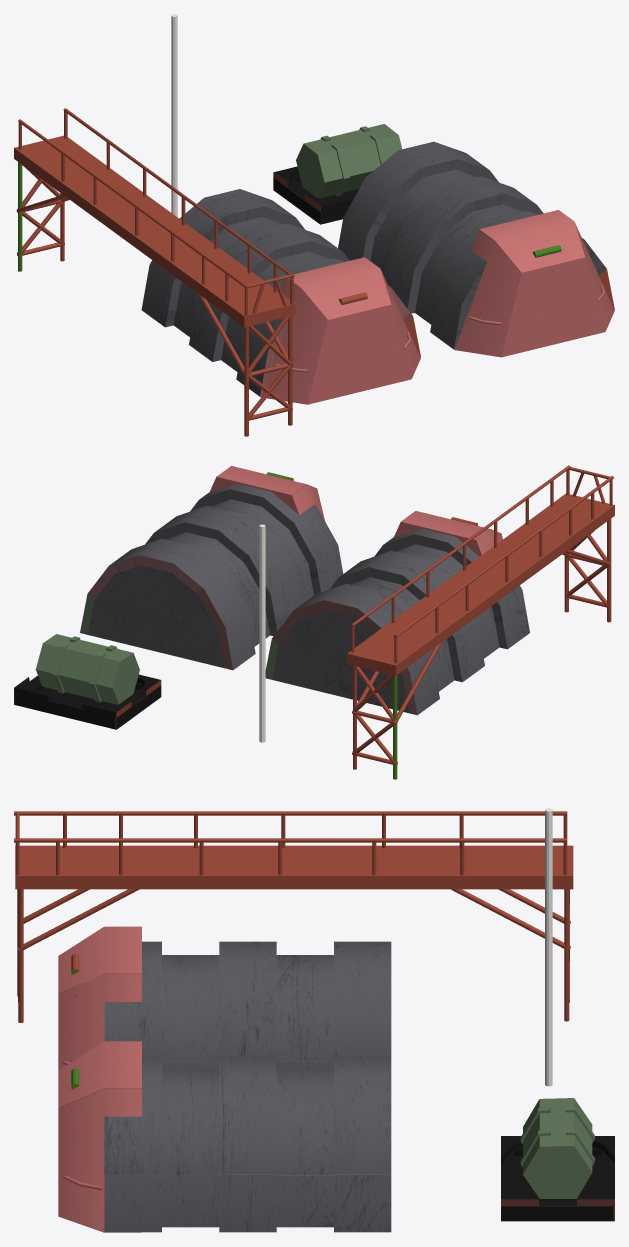
File: Barracks.fbx
3 views of the same model, one above another, from view 1: azimuth 30°, elevation 25°; view 2: azimuth 150°, elevation 25°; view 3: azimuth 270°, elevation 25° (orthographic). The views are drawn at different scales.
Visible parts, largest first — view 1: pCylinder45, polySurface12, polySurface11, polySurface6, polySurface7, polySurface1, polySurface2, pCylinder46; view 2: polySurface12, polySurface7, pCylinder45, polySurface1, polySurface2, polySurface11, polySurface6, pCylinder46; view 3: polySurface12, pCylinder45, polySurface7, polySurface11, polySurface6, polySurface1, polySurface2, pCylinder46.
Part boxes in pixels (left/top/right/bottom): pCylinder45: left=14, top=108, right=295, bottom=436; polySurface12: left=338, top=141, right=614, bottom=349; polySurface11: left=454, top=210, right=614, bottom=357; polySurface6: left=260, top=257, right=420, bottom=404; polySurface7: left=141, top=189, right=420, bottom=396; polySurface1: left=296, top=124, right=401, bottom=198; polySurface2: left=273, top=166, right=358, bottom=224; pCylinder46: left=171, top=14, right=177, bottom=216; polySurface12: left=80, top=483, right=343, bottom=670; polySurface7: left=265, top=528, right=529, bottom=715; pCylinder45: left=347, top=465, right=614, bottom=779; polySurface1: left=35, top=634, right=139, bottom=704; polySurface2: left=14, top=674, right=161, bottom=729; polySurface11: left=209, top=466, right=324, bottom=520; polySurface6: left=393, top=511, right=502, bottom=556; pCylinder46: left=259, top=524, right=265, bottom=742; polySurface12: left=104, top=1056, right=391, bottom=1232; pCylinder45: left=14, top=811, right=573, bottom=1022; polySurface7: left=104, top=941, right=391, bottom=1069; polySurface11: left=58, top=1041, right=141, bottom=1232; polySurface6: left=58, top=926, right=141, bottom=1070; polySurface1: left=520, top=1098, right=594, bottom=1198; polySurface2: left=501, top=1136, right=614, bottom=1221; pCylinder46: left=545, top=808, right=552, bottom=1086.
Bounding box in the file's own units: 0.1642 × 0.0873 × 0.1732.
1 material, 1 textured.
